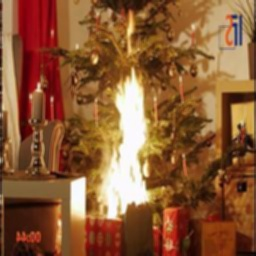fire: (79, 59, 157, 217)
